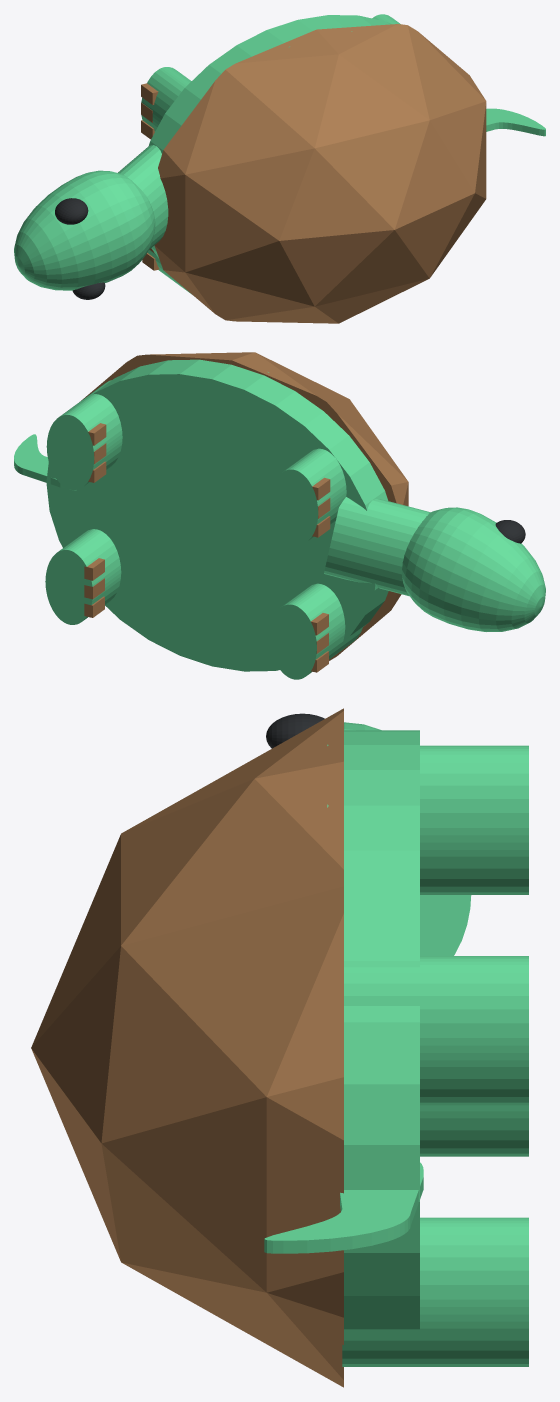
Rendered from turtle.obj.
The picture shows the model from 3 angles, top to bottom: view 1: azimuth 30°, elevation 25°; view 2: azimuth 150°, elevation 25°; view 3: azimuth 270°, elevation 25°; orthographic projection. The views are drawn at different scales.
Parts seen in each view (by area): view 1: group_0_11107152, group_0_6675355, group_0_2829873; view 2: group_0_6675355, group_0_11107152, group_0_2829873; view 3: group_0_11107152, group_0_6675355, group_0_2829873.
Part boxes in pixels (box(x1,y1,x2,y2)): group_0_11107152: box(141, 24, 486, 323); group_0_6675355: box(14, 14, 545, 294); group_0_2829873: box(55, 198, 105, 299); group_0_6675355: box(14, 359, 545, 679); group_0_11107152: box(81, 352, 408, 672); group_0_2829873: box(495, 520, 525, 543); group_0_11107152: box(31, 708, 343, 1387); group_0_6675355: box(264, 722, 528, 1366); group_0_2829873: box(266, 713, 324, 748).
Size of the model in its own units: 61.41 by 33 by 26.
